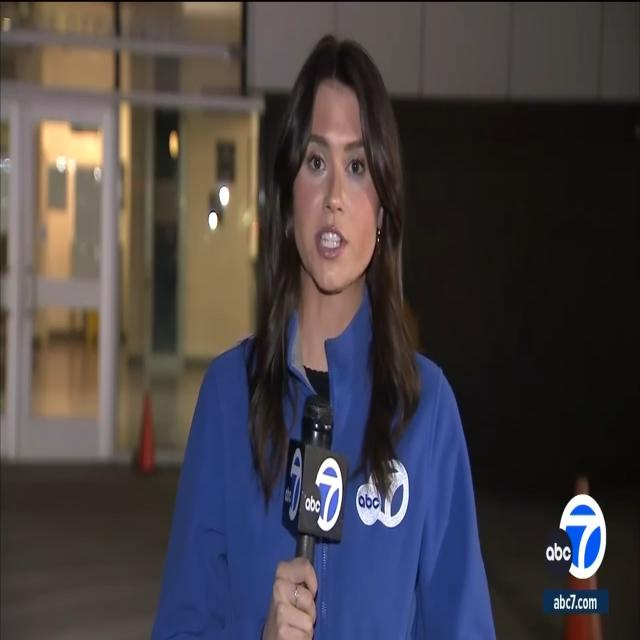microphone: (288, 396, 348, 633)
